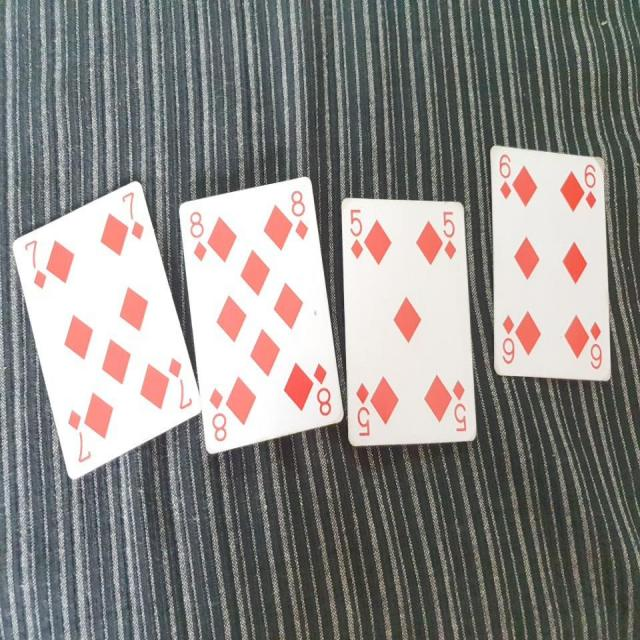5 Diamonds: (338, 196, 479, 452)
6 Diamonds: (489, 144, 612, 381)
7 Diamonds: (11, 178, 202, 481)
8 Diamonds: (180, 177, 346, 455)
